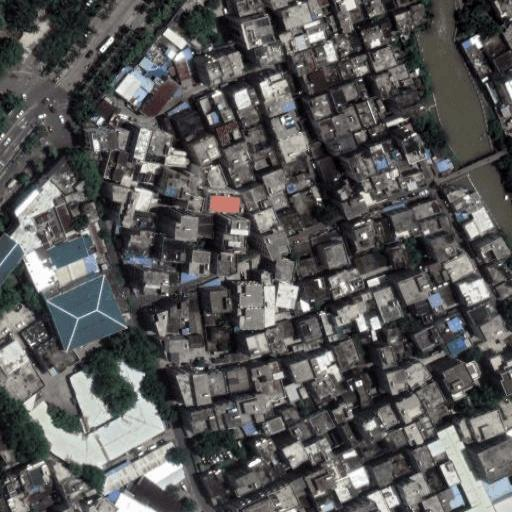building: (23, 350, 168, 471), (47, 274, 128, 352), (436, 425, 497, 512), (92, 440, 179, 493), (46, 231, 104, 286), (22, 320, 75, 378), (69, 366, 115, 431), (20, 246, 65, 303), (157, 168, 211, 212), (466, 430, 512, 479), (15, 176, 64, 222), (455, 406, 504, 448), (129, 474, 183, 512), (114, 67, 158, 110), (137, 75, 180, 118), (248, 361, 286, 405), (142, 456, 188, 490), (254, 436, 288, 481), (290, 185, 324, 229), (192, 47, 235, 81), (323, 266, 364, 300), (231, 279, 259, 327), (430, 357, 465, 395), (173, 372, 209, 408), (453, 271, 489, 307), (235, 12, 272, 47), (103, 184, 133, 226), (10, 219, 44, 256), (49, 158, 86, 192), (472, 234, 510, 267), (33, 211, 66, 249), (389, 264, 424, 299), (462, 36, 491, 78), (353, 246, 392, 277), (484, 352, 512, 395), (18, 462, 54, 495), (373, 286, 404, 324), (342, 147, 376, 181), (55, 476, 93, 506), (387, 85, 421, 118), (274, 1, 311, 31), (27, 482, 64, 512), (203, 469, 234, 504), (481, 469, 512, 504), (111, 491, 162, 512), (321, 155, 352, 189), (432, 230, 463, 264), (52, 202, 79, 241), (389, 31, 421, 63), (401, 359, 433, 391), (444, 252, 477, 283), (481, 255, 512, 288), (304, 437, 337, 468), (248, 143, 279, 175), (264, 111, 296, 142), (256, 227, 287, 259), (436, 312, 468, 343), (436, 482, 469, 512), (134, 56, 167, 86), (266, 482, 299, 512), (353, 174, 382, 208), (424, 140, 453, 174), (256, 272, 274, 326), (166, 7, 197, 38), (366, 43, 398, 73), (279, 149, 311, 179), (152, 34, 184, 64), (389, 207, 419, 239), (174, 48, 199, 86), (305, 89, 335, 120), (239, 185, 270, 215), (210, 397, 241, 427), (187, 403, 217, 434), (391, 391, 422, 421), (331, 337, 361, 368), (413, 323, 445, 352), (475, 313, 507, 342), (278, 442, 310, 471), (415, 210, 450, 236), (310, 38, 340, 68), (248, 206, 278, 236), (143, 45, 174, 74), (87, 97, 116, 128), (187, 132, 216, 163), (389, 123, 417, 155), (248, 37, 281, 64), (164, 299, 188, 336), (103, 149, 129, 183), (289, 46, 318, 76), (240, 123, 270, 152), (274, 208, 304, 237), (202, 371, 232, 400), (302, 277, 331, 307), (249, 73, 280, 101), (257, 92, 288, 120), (279, 318, 307, 349), (446, 332, 477, 360), (466, 296, 497, 324), (307, 348, 338, 376), (297, 68, 326, 97), (177, 112, 206, 141), (413, 381, 442, 410), (257, 166, 287, 194), (369, 216, 397, 246), (301, 465, 329, 495), (64, 189, 92, 219), (368, 94, 395, 125), (261, 325, 288, 356), (373, 168, 398, 201), (233, 492, 274, 512), (372, 402, 400, 431), (386, 62, 413, 92), (185, 292, 203, 337), (226, 469, 256, 496), (123, 208, 155, 233), (369, 460, 397, 488), (229, 159, 257, 187), (353, 412, 381, 440), (234, 391, 261, 420), (425, 259, 452, 288), (436, 280, 463, 309), (217, 420, 246, 447), (332, 475, 359, 504), (422, 465, 448, 495), (326, 83, 352, 113), (472, 206, 497, 237), (388, 451, 415, 479), (384, 370, 411, 398), (349, 468, 376, 496), (222, 141, 251, 167), (213, 119, 242, 145), (273, 133, 302, 159), (125, 235, 154, 261), (385, 239, 411, 268), (380, 427, 409, 453), (299, 315, 326, 342), (241, 332, 268, 359), (288, 357, 315, 384), (318, 62, 344, 90), (236, 102, 262, 130), (410, 297, 436, 325), (359, 25, 386, 51), (427, 401, 454, 427), (327, 134, 355, 159), (133, 127, 153, 162), (161, 26, 189, 51), (317, 240, 342, 268), (286, 420, 314, 445), (360, 436, 388, 461), (409, 472, 433, 501), (370, 68, 394, 97), (312, 488, 341, 512), (392, 171, 425, 192), (160, 337, 190, 360), (366, 142, 388, 173), (411, 198, 442, 220), (484, 34, 510, 60), (265, 187, 291, 213), (311, 377, 337, 403), (336, 56, 361, 83), (136, 162, 163, 187), (153, 236, 178, 263), (227, 369, 254, 394), (396, 479, 420, 507), (127, 265, 155, 289), (307, 411, 335, 435), (461, 217, 485, 245), (341, 105, 364, 134), (379, 138, 401, 168), (184, 246, 209, 272), (241, 415, 267, 440), (320, 457, 346, 482), (412, 445, 436, 472), (330, 302, 357, 326), (274, 281, 298, 308), (408, 2, 431, 30), (379, 16, 402, 44), (355, 74, 378, 102), (330, 181, 358, 204), (148, 130, 171, 158), (341, 421, 364, 449), (327, 110, 349, 139), (313, 115, 335, 144), (160, 213, 189, 235), (287, 170, 316, 192), (338, 448, 363, 473), (165, 146, 191, 170), (209, 251, 235, 275), (398, 149, 421, 176), (247, 459, 269, 487), (207, 191, 236, 212), (120, 161, 141, 190), (385, 326, 406, 355), (367, 121, 392, 145), (229, 85, 254, 109), (154, 267, 179, 291), (328, 402, 353, 426), (304, 20, 327, 46), (426, 439, 448, 466), (437, 460, 459, 487), (350, 232, 377, 254), (345, 218, 372, 240), (332, 33, 353, 61), (355, 101, 376, 129), (415, 415, 438, 440), (402, 423, 425, 448), (345, 29, 366, 56), (7, 491, 34, 512), (381, 485, 404, 509), (349, 128, 373, 151), (188, 214, 212, 237), (204, 288, 228, 311), (83, 493, 112, 512), (321, 15, 343, 40), (211, 231, 236, 253), (426, 292, 448, 317), (47, 463, 72, 485), (335, 196, 362, 216), (128, 191, 152, 213), (353, 51, 373, 77), (344, 79, 363, 106), (211, 161, 230, 188), (395, 11, 416, 35), (295, 257, 319, 278), (330, 372, 351, 396), (290, 26, 310, 51), (492, 278, 512, 303), (319, 311, 338, 337), (208, 324, 232, 344), (420, 493, 445, 512), (86, 128, 111, 147), (377, 345, 396, 370), (285, 382, 307, 403), (367, 492, 390, 512), (290, 477, 310, 500), (80, 202, 100, 225), (307, 334, 331, 353), (206, 308, 230, 327), (281, 405, 300, 429), (353, 313, 374, 334), (274, 261, 294, 283), (343, 388, 363, 410), (336, 11, 355, 34), (212, 215, 237, 232), (198, 95, 218, 116), (455, 354, 474, 376), (494, 49, 512, 72), (263, 416, 286, 434), (279, 31, 296, 55), (258, 401, 277, 422), (150, 313, 166, 337), (455, 206, 475, 225), (444, 183, 464, 202), (494, 0, 512, 21), (315, 142, 333, 163), (212, 90, 230, 111), (449, 195, 470, 213), (344, 499, 373, 512), (181, 271, 207, 285), (366, 379, 384, 399), (204, 111, 223, 129), (345, 372, 364, 390), (493, 494, 512, 512), (368, 309, 385, 329), (362, 294, 379, 314), (356, 384, 373, 404), (499, 80, 512, 106), (332, 0, 356, 14), (295, 498, 318, 512), (348, 6, 366, 23), (218, 106, 235, 124), (293, 342, 311, 359), (351, 298, 367, 317), (388, 164, 405, 181), (110, 128, 125, 147), (327, 331, 346, 346), (487, 82, 500, 103), (502, 28, 512, 51), (189, 336, 204, 350), (61, 502, 81, 512), (407, 501, 425, 512), (353, 0, 372, 8), (279, 505, 298, 512), (113, 224, 123, 235), (506, 297, 512, 312), (501, 108, 510, 117), (494, 72, 503, 81), (508, 106, 512, 119)
